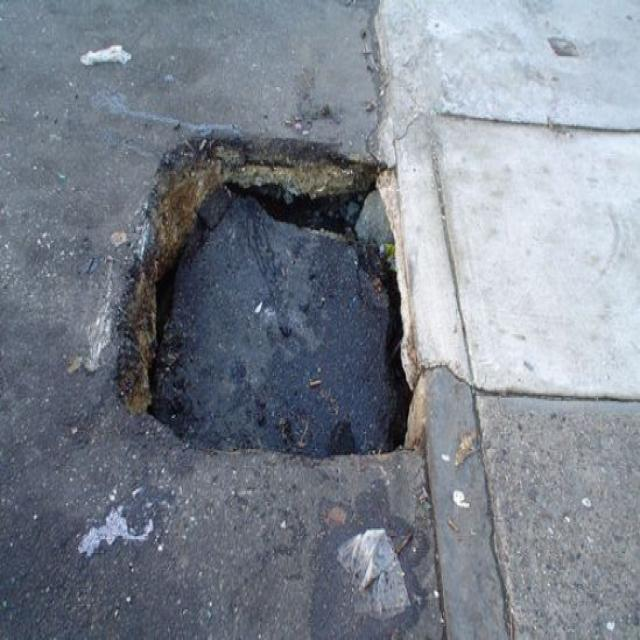pothole: (107, 124, 414, 463)
